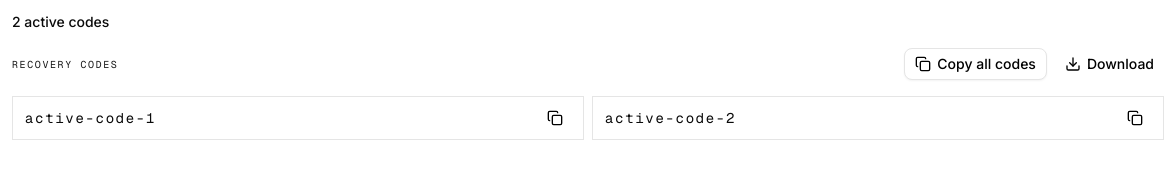
Scenario: RecoveryCodes › copies all recovery codes and shows the copied state
Click the button with aria-label "Copy all codes": coordinates (976, 64) x1=904 y1=48 x2=1047 y2=80
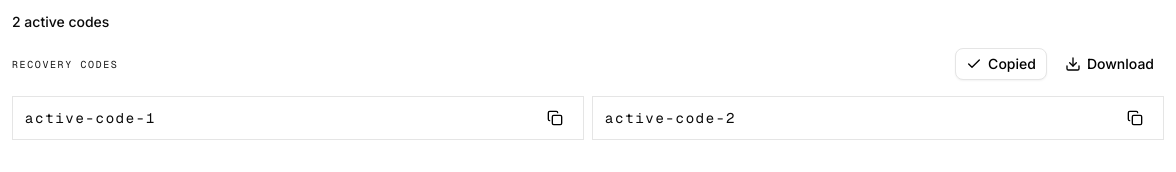
Check: the text "Copied" is shown, box x1=955 y1=48 x2=1047 y2=80
